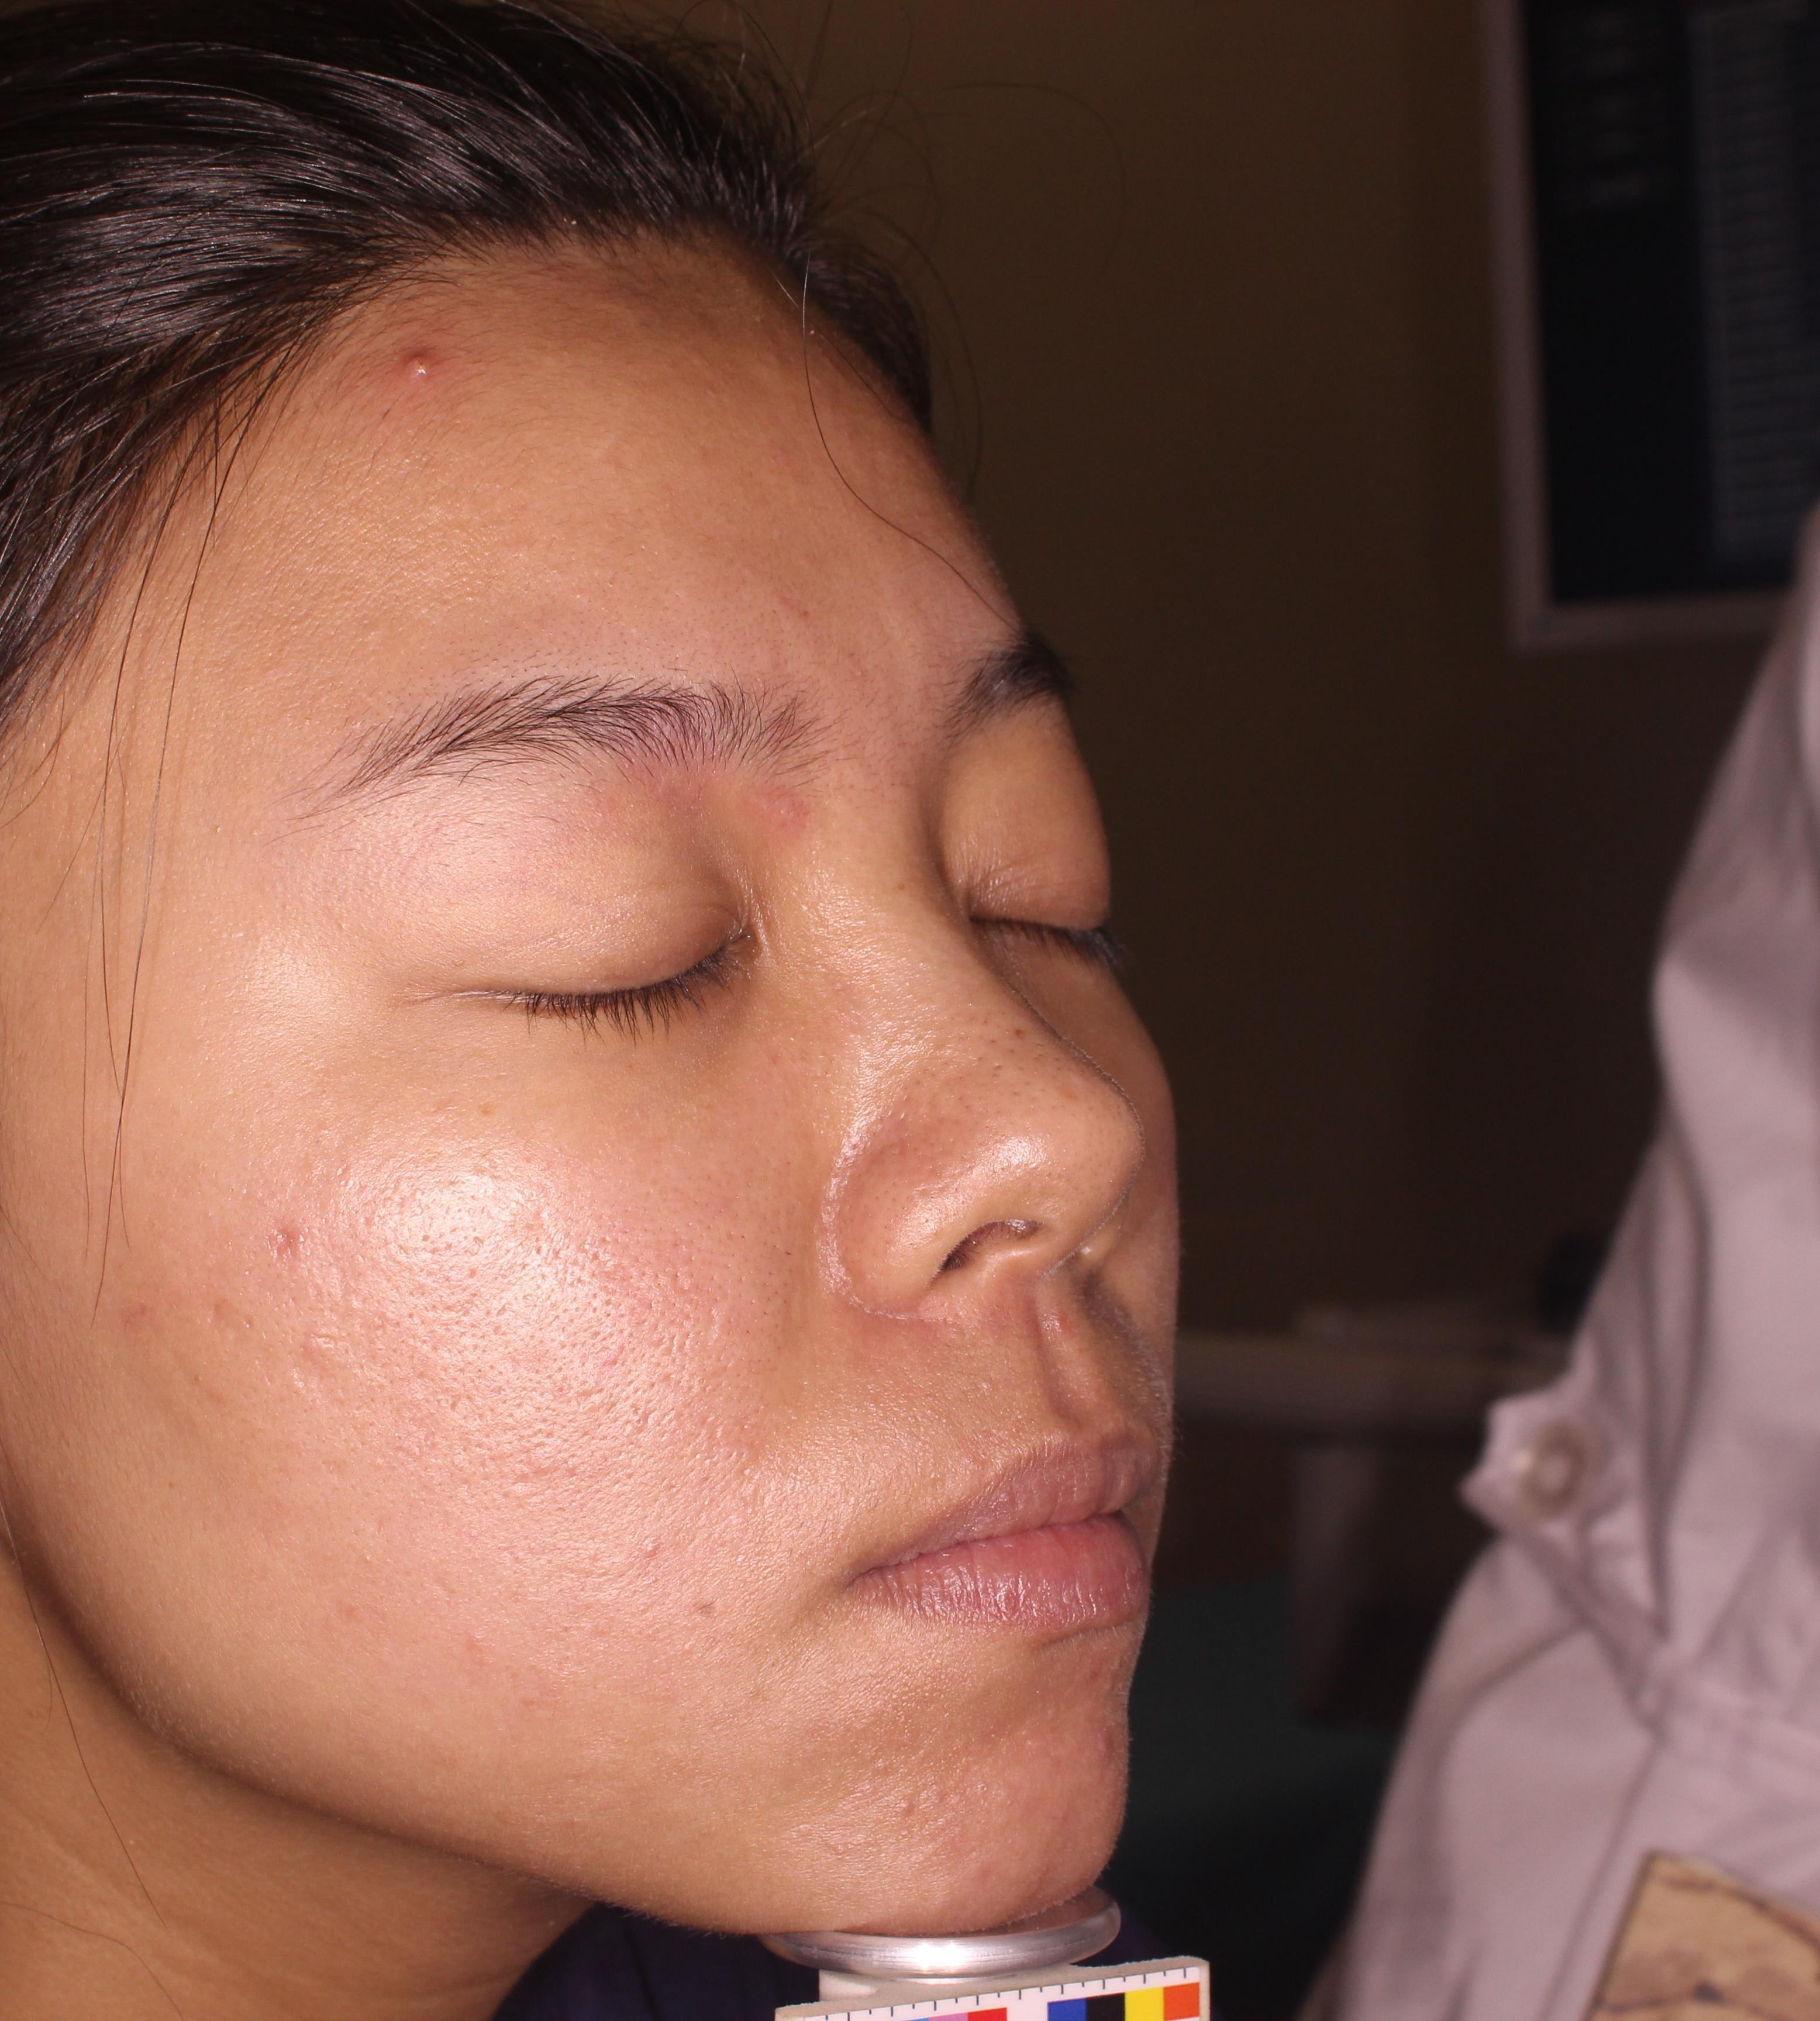fore: (386, 335, 471, 411)
